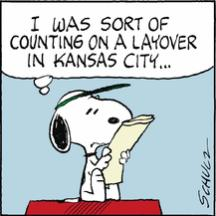snoopy: (49, 82, 155, 204)
